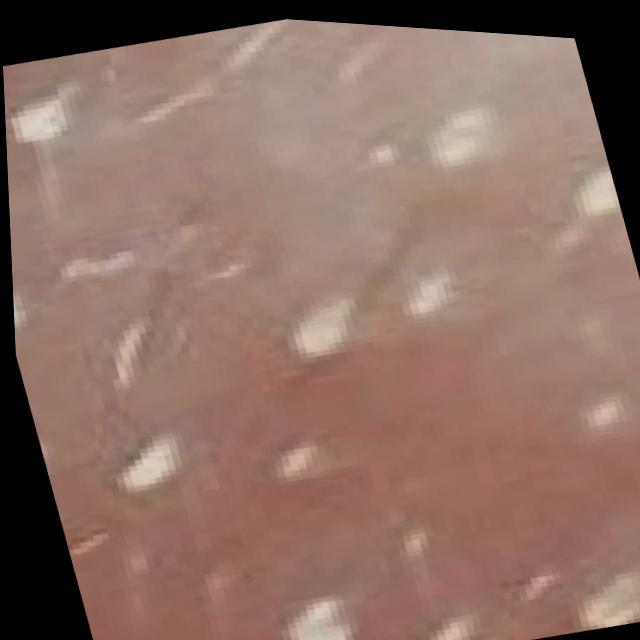whitehead: (3, 15, 640, 640)
